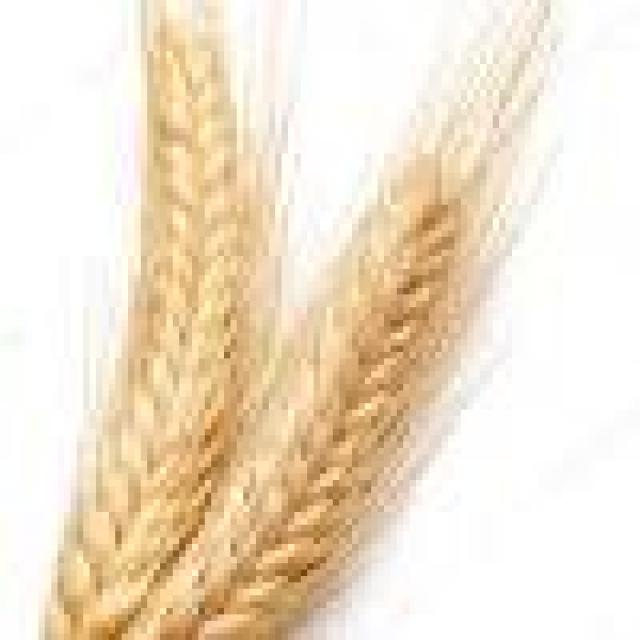Wheathead: (30, 4, 471, 615)
